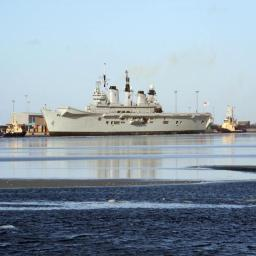Portanaves: (42, 72, 215, 140)
